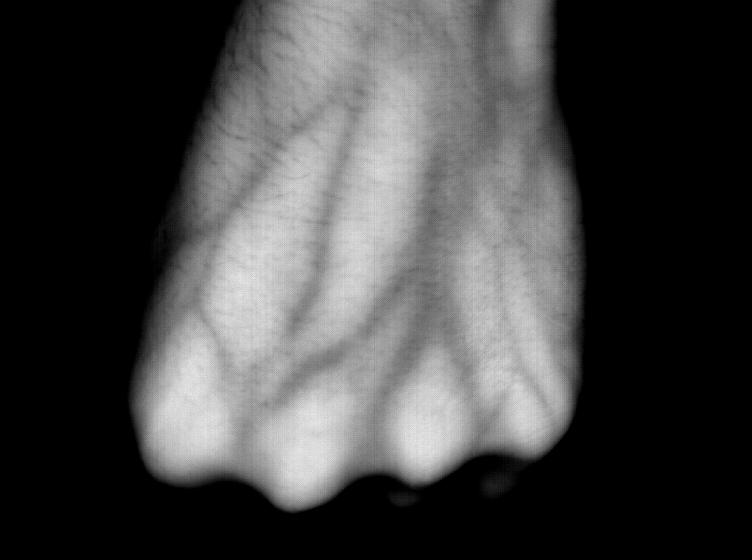Vein: (292, 128, 474, 404), (218, 63, 376, 330)
